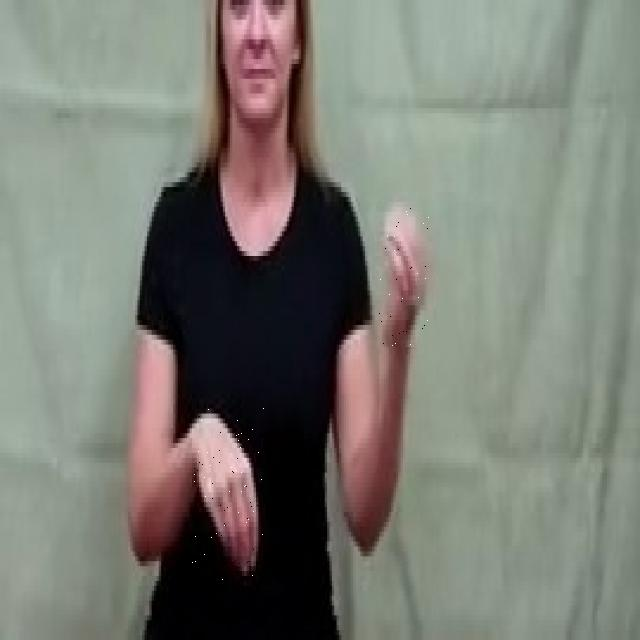ingredients: (192, 406, 265, 580), (379, 204, 432, 347)
